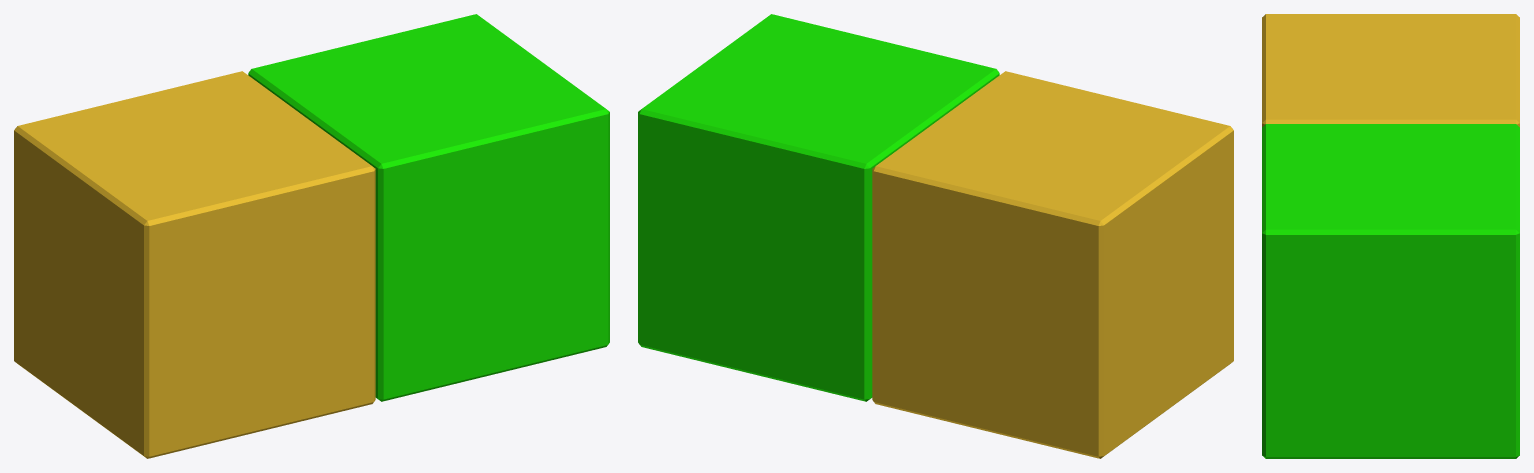
The model's file is SM_BuildingblockClump_Horizontal.fbx.
3 renders of one model, left to right at view 1: azimuth 30°, elevation 25°; view 2: azimuth 150°, elevation 25°; view 3: azimuth 270°, elevation 25°, orthographic. The views are drawn at different scales.
Visible parts, largest first — view 1: SM_BuildingblockClump Horizontal; view 2: SM_BuildingblockClump Horizontal; view 3: SM_BuildingblockClump Horizontal.
Part boxes in pixels (x1,y1,x2,y2): SM_BuildingblockClump Horizontal: (14, 14, 609, 458); SM_BuildingblockClump Horizontal: (638, 14, 1233, 458); SM_BuildingblockClump Horizontal: (1262, 14, 1519, 458).
Bounding box in the file's own units: 107 × 52.05 × 53.05.
